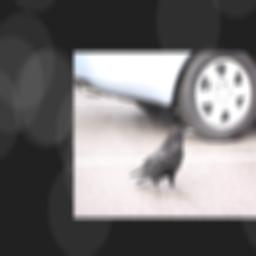Crow: (127, 124, 195, 198)
